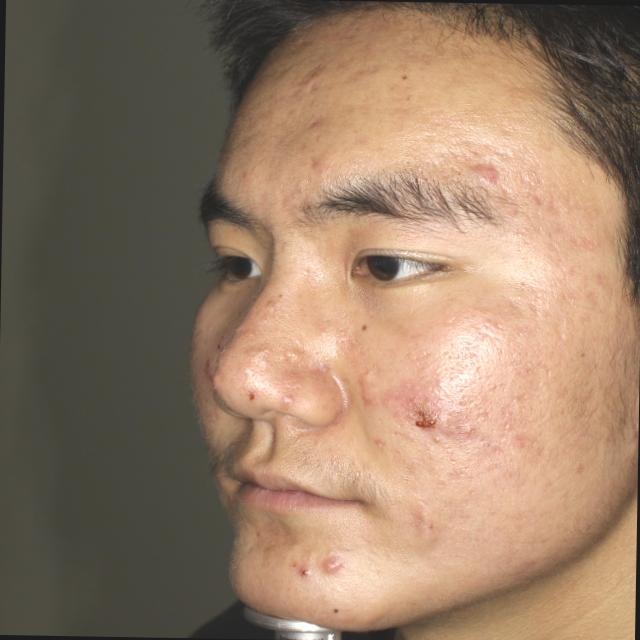blackhead: (402, 76, 406, 79), (278, 294, 282, 297), (363, 326, 366, 329), (486, 444, 490, 446), (302, 351, 304, 353), (458, 173, 460, 175), (310, 115, 312, 117), (312, 160, 314, 162), (389, 80, 391, 81)
nodule: (321, 556, 342, 574)
